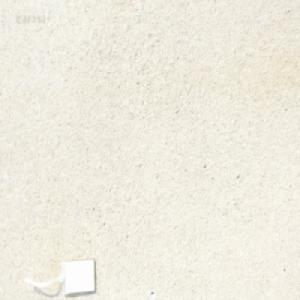LuggageTag: (22, 256, 96, 295)
